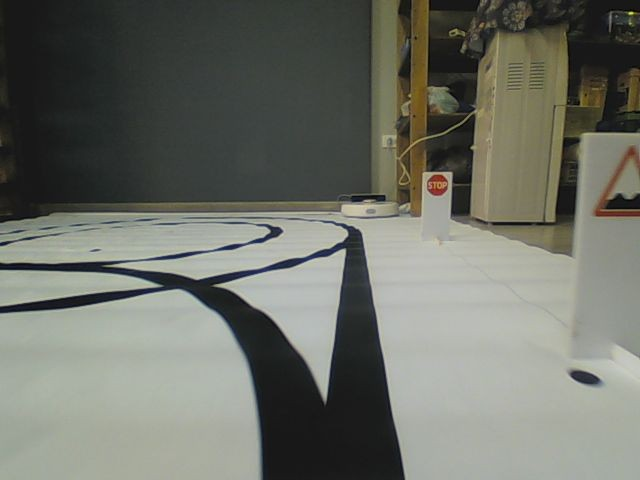Nerov: (588, 144, 640, 220)
Stop: (424, 173, 449, 196)
